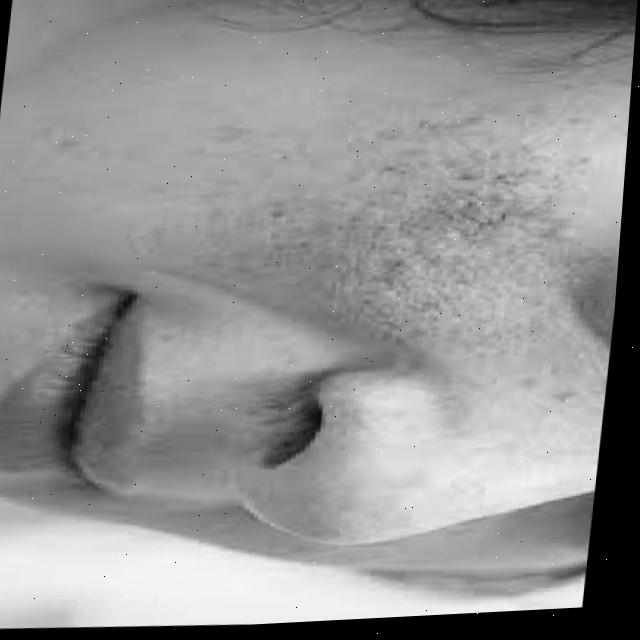Rosacea: (316, 150, 569, 357)
